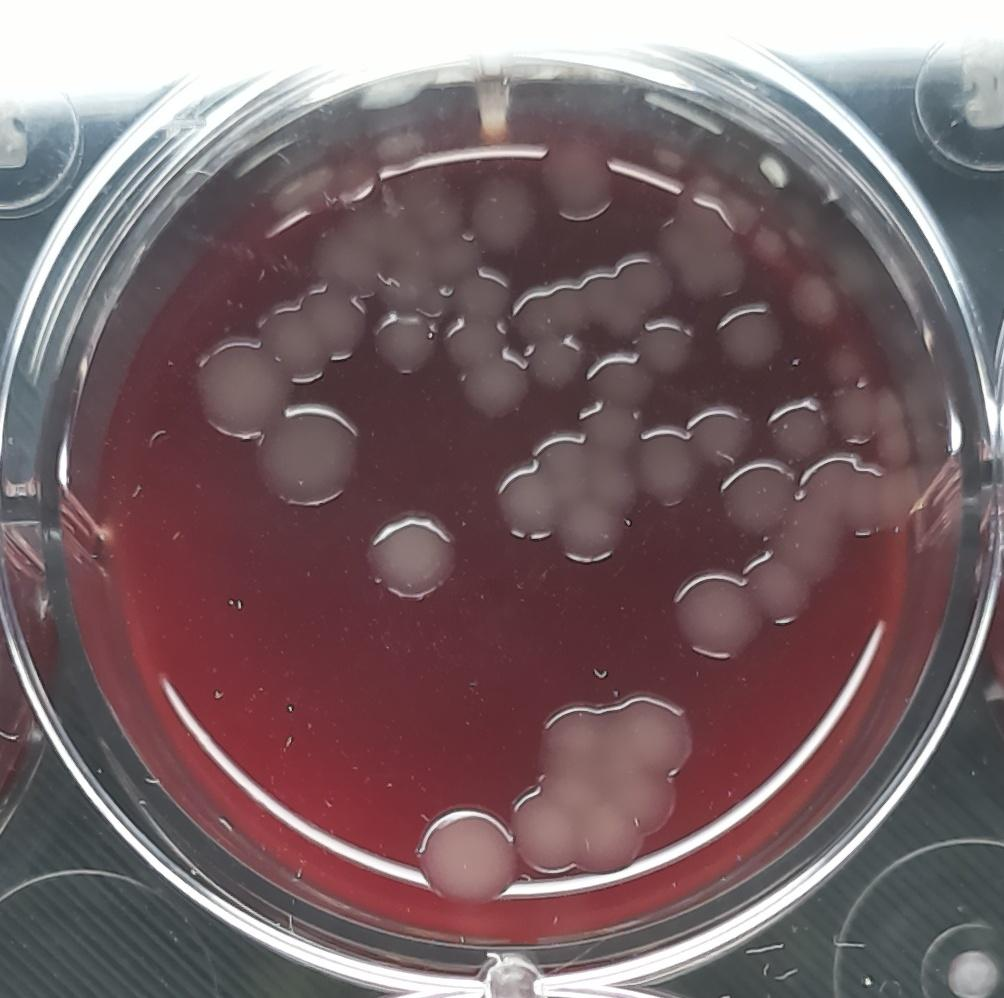vharveyi: (353, 505, 476, 625), (191, 325, 298, 444), (250, 398, 361, 510)
